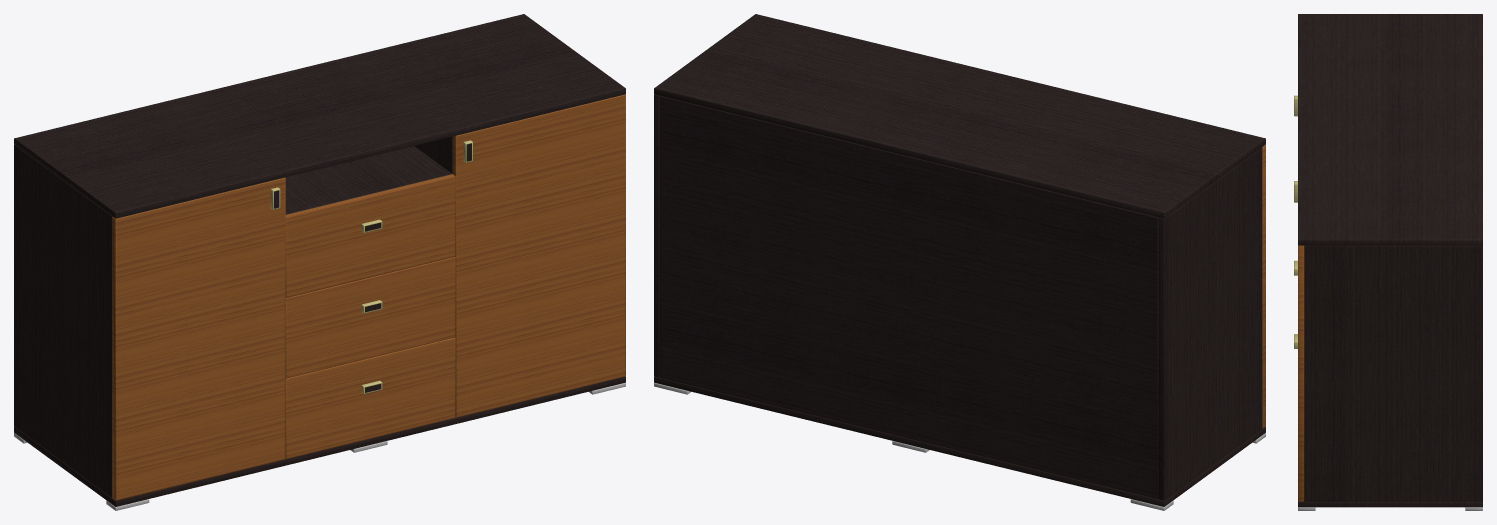
The picture shows the model from 3 angles, left to right: view 1: azimuth 30°, elevation 25°; view 2: azimuth 150°, elevation 25°; view 3: azimuth 270°, elevation 25°; orthographic projection. The views are drawn at different scales.
Visible parts, largest first — view 1: Node; view 2: Node; view 3: Node.
Part boxes in pixels (left/top/right/bottom): Node: left=14, top=14, right=625, bottom=510; Node: left=654, top=14, right=1265, bottom=510; Node: left=1294, top=14, right=1482, bottom=510.
Size of the model in its own units: 1.36 by 0.76 by 0.48.
4 materials, 2 textured.
